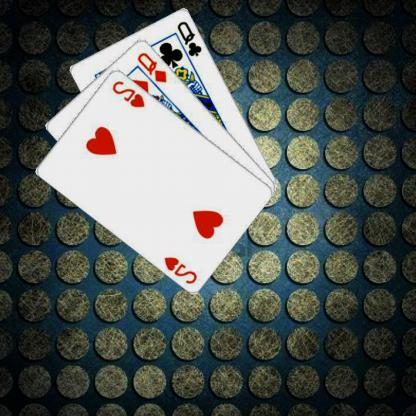2H: (163, 254, 200, 285), (111, 78, 148, 108)
QC: (176, 18, 205, 58)
QD: (136, 50, 170, 83)
